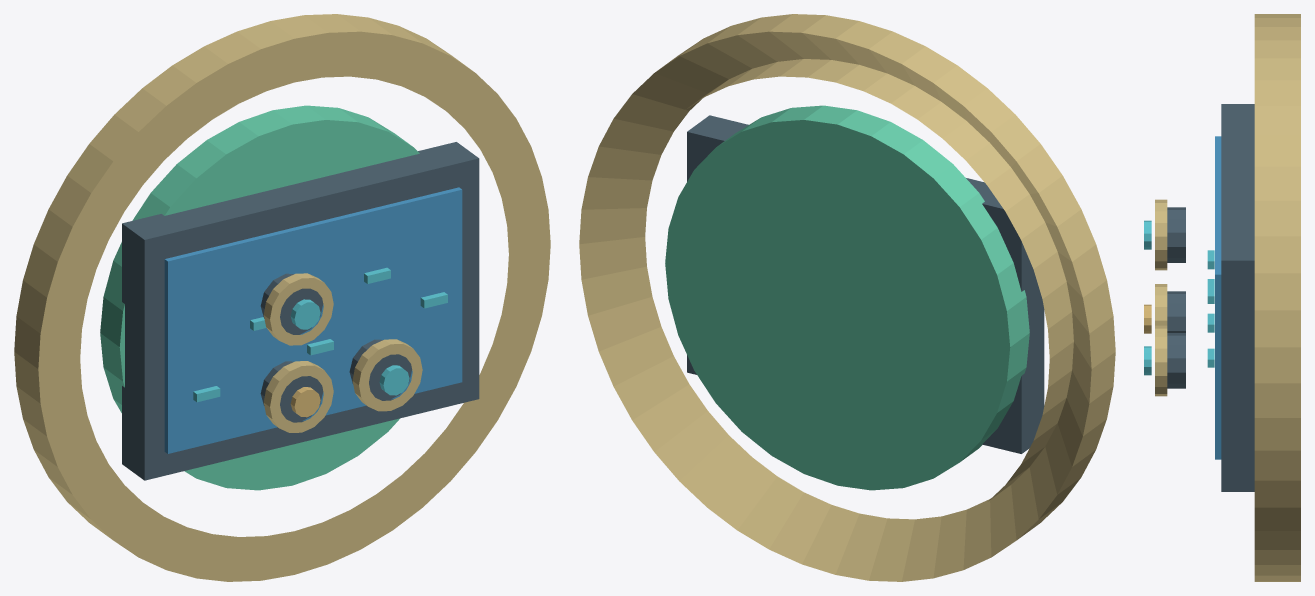
The model's file is 71_L83_MissionSurvivalCertificationBeacon.glb.
The picture shows the model from 3 angles, left to right: view 1: azimuth 30°, elevation 25°; view 2: azimuth 150°, elevation 25°; view 3: azimuth 270°, elevation 25°; orthographic projection. The views are drawn at different scales.
Parts seen in each view (by area): view 1: MissionSurvivalCertificationBeacon_Node_0000, MissionSurvivalCertificationBeacon_Node_0003, MissionSurvivalCertificationBeacon_Node_0002, MissionSurvivalCertificationBeacon_Node_0001, MissionSurvivalCertificationBeacon_Node_0013, MissionSurvivalCertificationBeacon_Node_0016, MissionSurvivalCertificationBeacon_Node_0010, MissionSurvivalCertificationBeacon_Node_0015, MissionSurvivalCertificationBeacon_Node_0009, MissionSurvivalCertificationBeacon_Node_0012, MissionSurvivalCertificationBeacon_Node_0017, MissionSurvivalCertificationBeacon_Node_0014 (+1 smaller); view 2: MissionSurvivalCertificationBeacon_Node_0001, MissionSurvivalCertificationBeacon_Node_0000, MissionSurvivalCertificationBeacon_Node_0002; view 3: MissionSurvivalCertificationBeacon_Node_0000, MissionSurvivalCertificationBeacon_Node_0002, MissionSurvivalCertificationBeacon_Node_0003, MissionSurvivalCertificationBeacon_Node_0012, MissionSurvivalCertificationBeacon_Node_0015, MissionSurvivalCertificationBeacon_Node_0013, MissionSurvivalCertificationBeacon_Node_0016, MissionSurvivalCertificationBeacon_Node_0009, MissionSurvivalCertificationBeacon_Node_0010, MissionSurvivalCertificationBeacon_Node_0011, MissionSurvivalCertificationBeacon_Node_0014, MissionSurvivalCertificationBeacon_Node_0017.
Part boxes in pixels (x1,y1,x2,y2): MissionSurvivalCertificationBeacon_Node_0000: (14,14,550,581); MissionSurvivalCertificationBeacon_Node_0003: (164,187,462,453); MissionSurvivalCertificationBeacon_Node_0002: (122,142,479,480); MissionSurvivalCertificationBeacon_Node_0001: (100,105,419,490); MissionSurvivalCertificationBeacon_Node_0013: (352,339,422,411); MissionSurvivalCertificationBeacon_Node_0016: (263,273,333,345); MissionSurvivalCertificationBeacon_Node_0010: (263,361,333,432); MissionSurvivalCertificationBeacon_Node_0015: (260,273,323,334); MissionSurvivalCertificationBeacon_Node_0009: (260,361,323,422); MissionSurvivalCertificationBeacon_Node_0012: (349,339,412,400); MissionSurvivalCertificationBeacon_Node_0017: (290,299,320,329); MissionSurvivalCertificationBeacon_Node_0014: (379,365,409,395); MissionSurvivalCertificationBeacon_Node_0001: (665,105,1029,490); MissionSurvivalCertificationBeacon_Node_0000: (579,14,1115,581); MissionSurvivalCertificationBeacon_Node_0002: (687,115,1044,453); MissionSurvivalCertificationBeacon_Node_0000: (1254,14,1300,581); MissionSurvivalCertificationBeacon_Node_0002: (1221,104,1254,491); MissionSurvivalCertificationBeacon_Node_0003: (1215,136,1221,459); MissionSurvivalCertificationBeacon_Node_0012: (1167,333,1185,388); MissionSurvivalCertificationBeacon_Node_0015: (1167,207,1185,262); MissionSurvivalCertificationBeacon_Node_0013: (1155,325,1167,396); MissionSurvivalCertificationBeacon_Node_0016: (1155,199,1167,270); MissionSurvivalCertificationBeacon_Node_0009: (1167,291,1185,332); MissionSurvivalCertificationBeacon_Node_0010: (1155,284,1167,325); MissionSurvivalCertificationBeacon_Node_0011: (1144,304,1151,333); MissionSurvivalCertificationBeacon_Node_0014: (1144,346,1151,375); MissionSurvivalCertificationBeacon_Node_0017: (1144,220,1151,249).
Size of the model in its own units: 0.98 by 0.98 by 0.2705.
